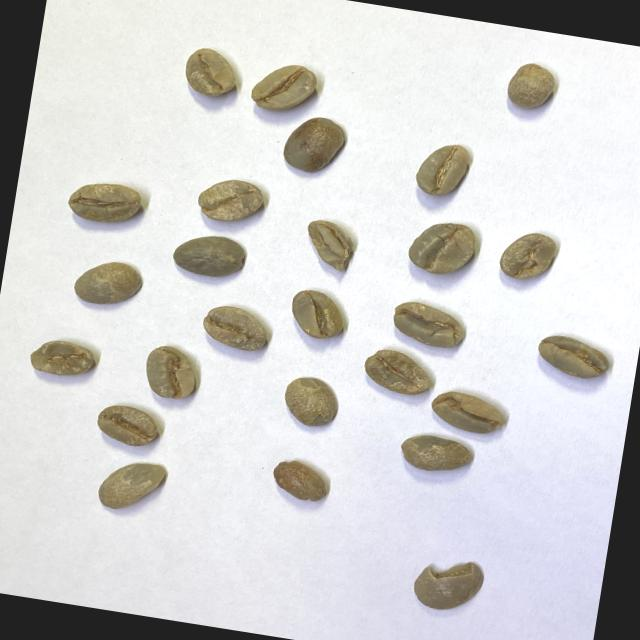bad: (407, 552, 485, 618), (389, 298, 470, 352), (360, 346, 436, 401), (141, 342, 203, 405), (428, 388, 504, 438), (300, 217, 359, 276), (27, 334, 96, 384)
good: (406, 215, 480, 280), (95, 454, 169, 518), (281, 112, 350, 180), (248, 56, 320, 121), (64, 177, 144, 230), (170, 231, 250, 283), (534, 331, 614, 382), (195, 174, 267, 230), (71, 256, 143, 310), (398, 430, 476, 479), (280, 371, 342, 432), (412, 138, 472, 201), (200, 303, 270, 354), (182, 44, 242, 102), (288, 288, 350, 344), (94, 402, 162, 452), (499, 228, 558, 282), (270, 457, 331, 507), (504, 59, 558, 114)
